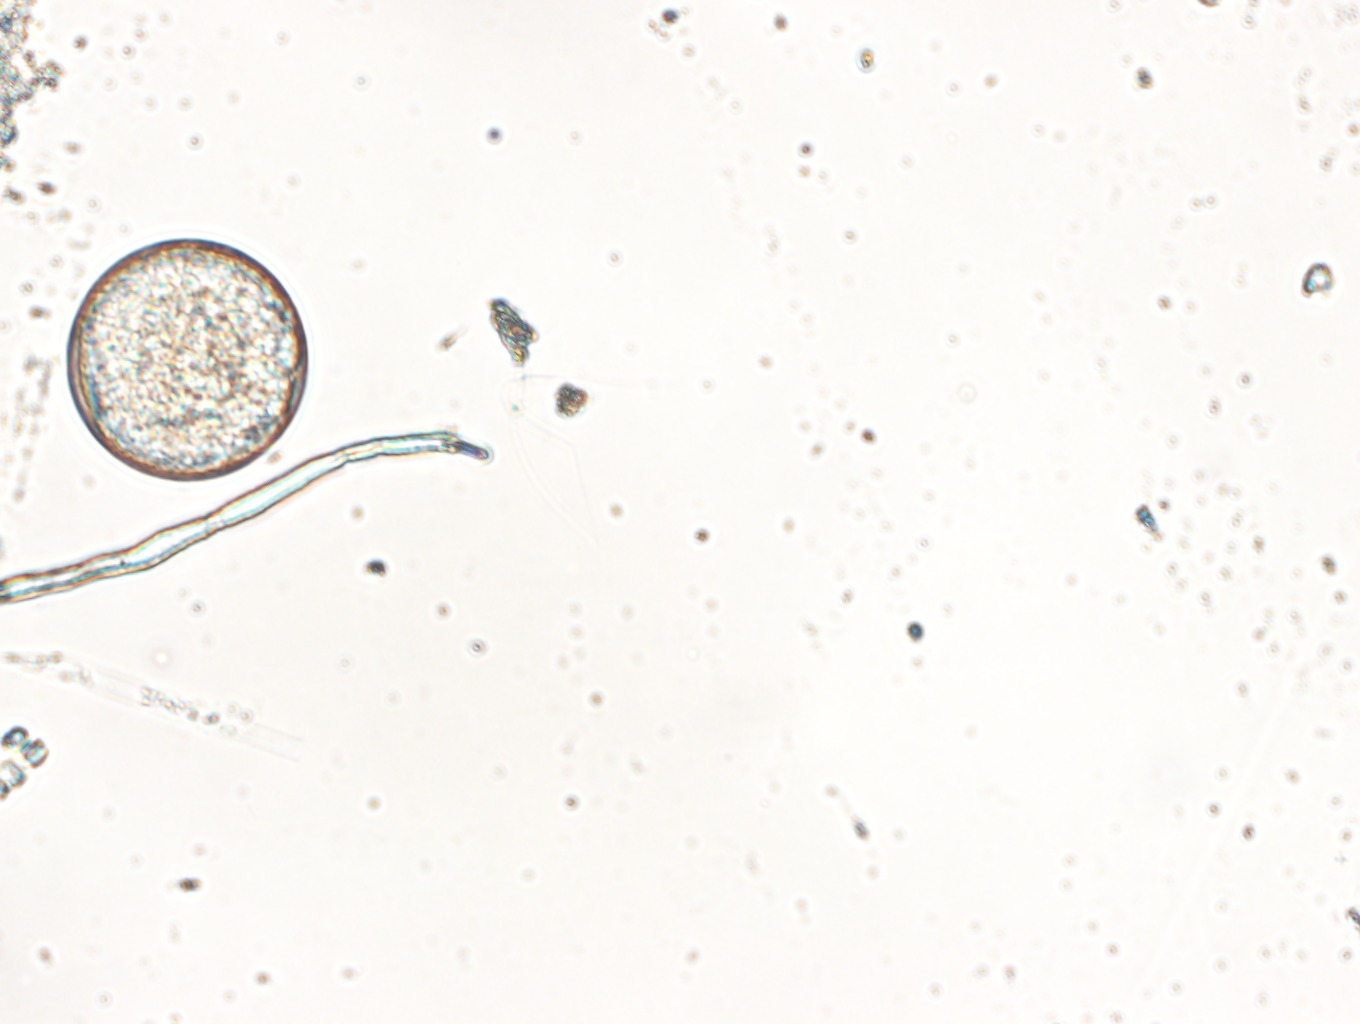coscinodiscus: (60, 240, 314, 486)
